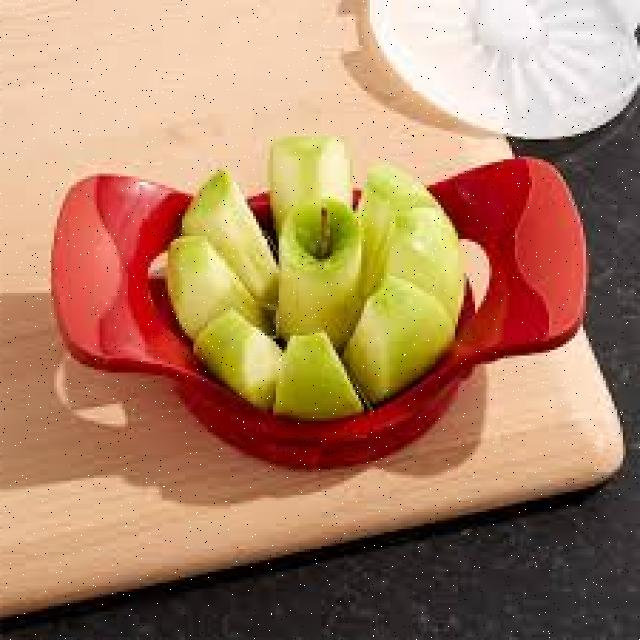Apple: (164, 136, 458, 416)
